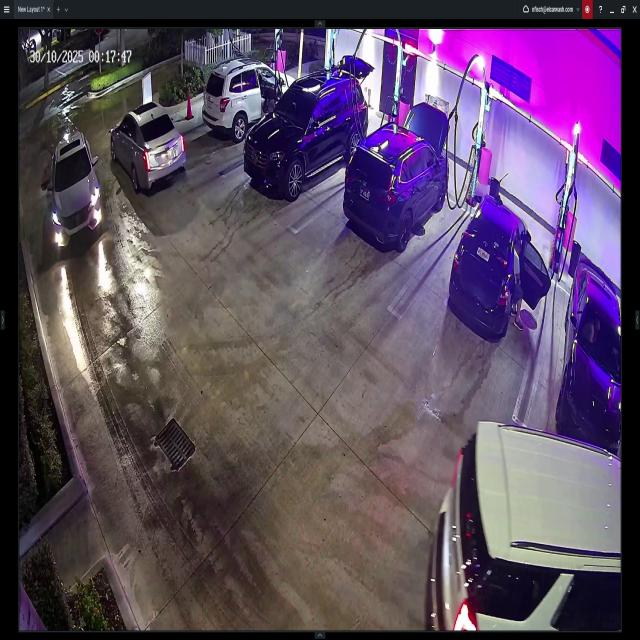Car: (433, 414, 622, 631), (244, 52, 369, 194), (346, 107, 448, 249), (449, 192, 549, 335), (558, 250, 620, 458), (201, 57, 298, 142), (49, 133, 100, 253), (115, 108, 184, 186)
